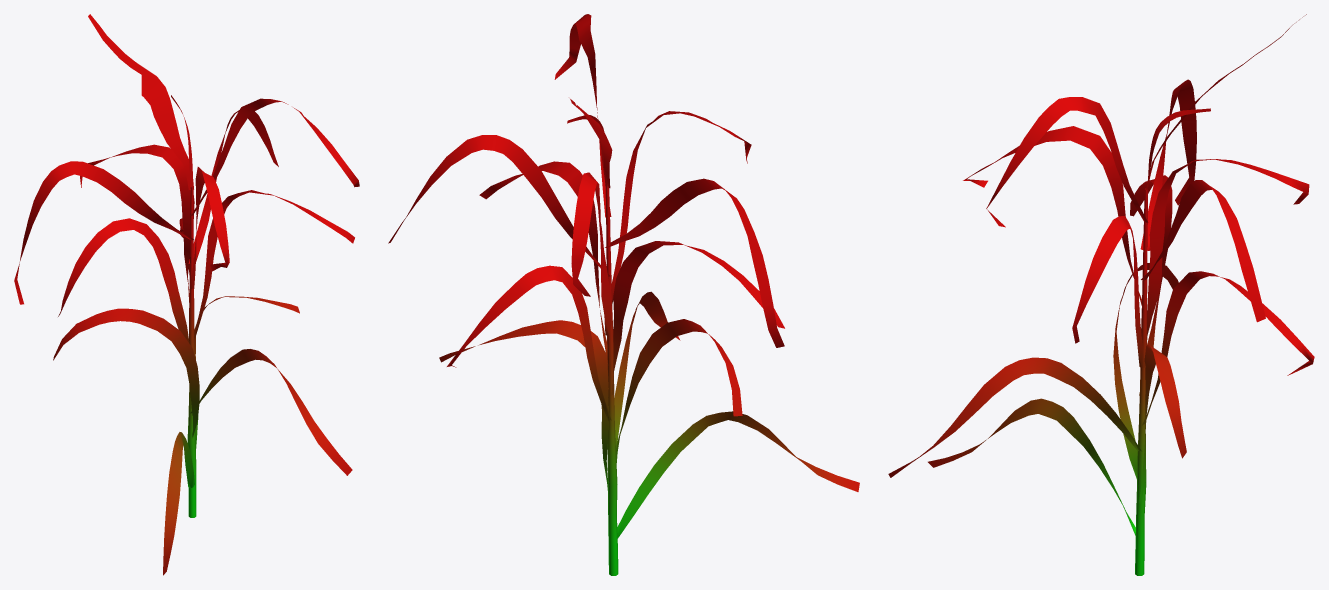
The model's file is tjugaikia_Var5_LOD0.fbx.
3 renders of one model, left to right at view 1: azimuth 30°, elevation 25°; view 2: azimuth 150°, elevation 25°; view 3: azimuth 270°, elevation 25°, orthographic. The views are drawn at different scales.
Visible parts, largest first — view 1: _97c4_Var5_LOD0; view 2: _97c4_Var5_LOD0; view 3: _97c4_Var5_LOD0.
Part boxes in pixels (box(x1,y1,x2,y2)): _97c4_Var5_LOD0: box(14, 14, 359, 575); _97c4_Var5_LOD0: box(388, 14, 859, 575); _97c4_Var5_LOD0: box(888, 14, 1314, 575).
Size of the model in its own units: 53.3 by 79.13 by 56.4.
